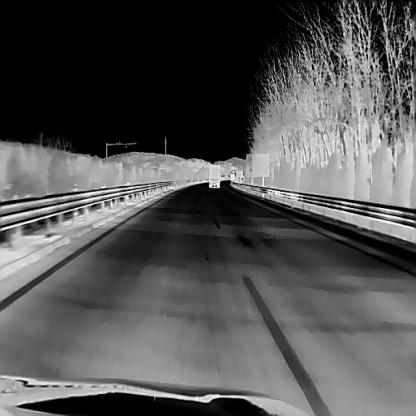truck: (207, 163, 220, 187)
